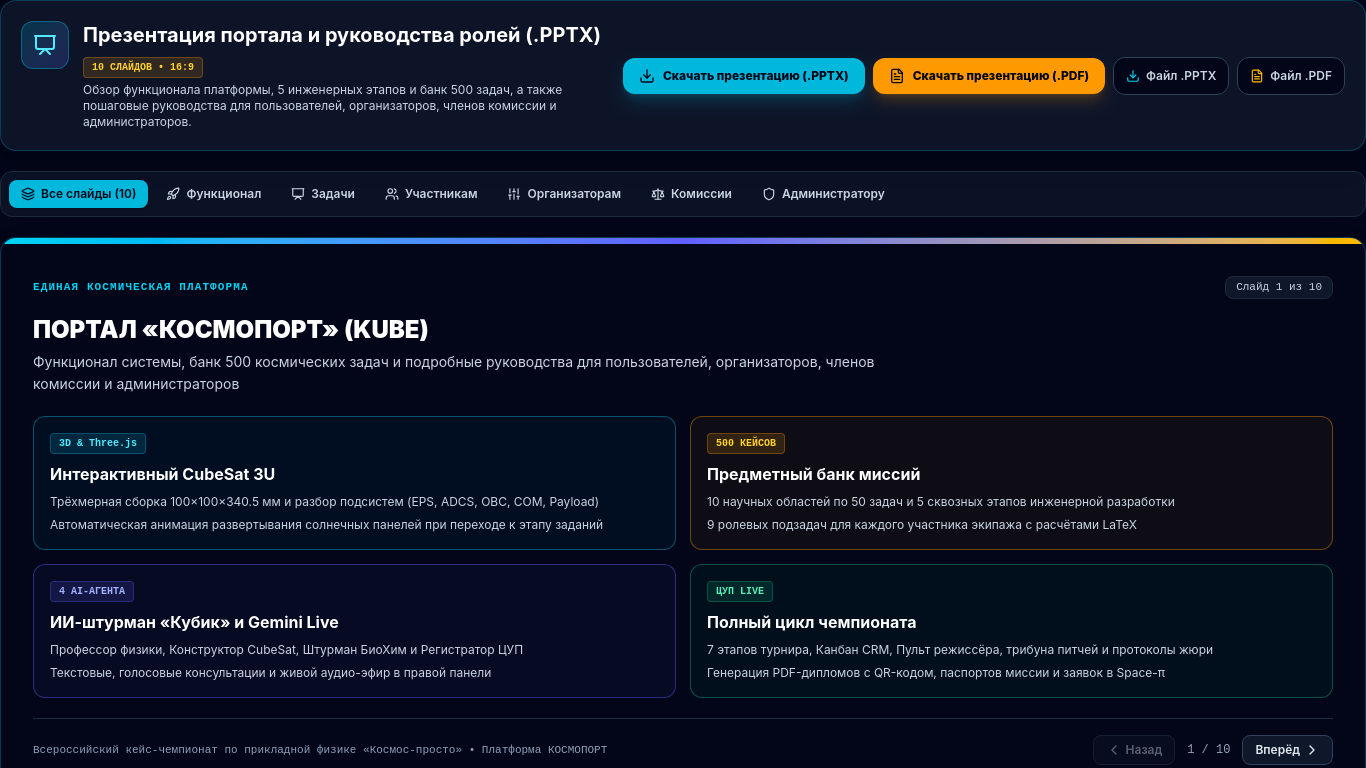
it: PortalPresentationTab и экспорт .PPTX / .PDF › отображает слайды, фильтры по ролям и навигацию Вперёд/Назад
Expected: the heading "Презентация портала и руководства ролей (.PPTX)" is shown, [83,21,601,49]
Expected: the text "Слайд 1 из 10" is shown, [1225,276,1333,298]
// Навигация вперёд
What coordinates should you click on to do the following:
click the button "Вперёд"
I would click on:
 (1288, 750)
Its box is [1242,735,1333,765].
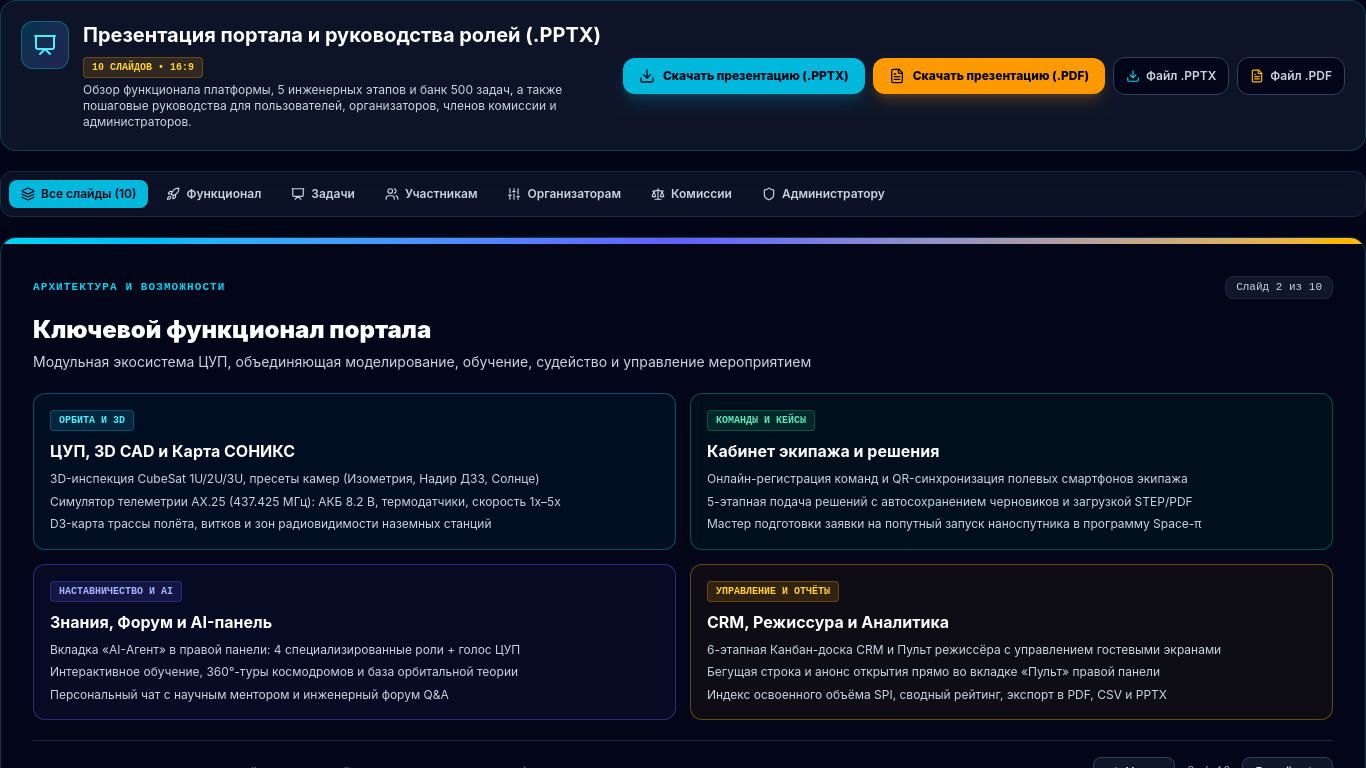
Result: the text "Слайд 2 из 10" is shown at [1225,276,1333,298]
// Фильтр руководства для членов комиссии
What coordinates should you click on to do the following:
click the button "Комиссии"
I would click on:
 (692, 194)
Its box is [639,180,744,208].
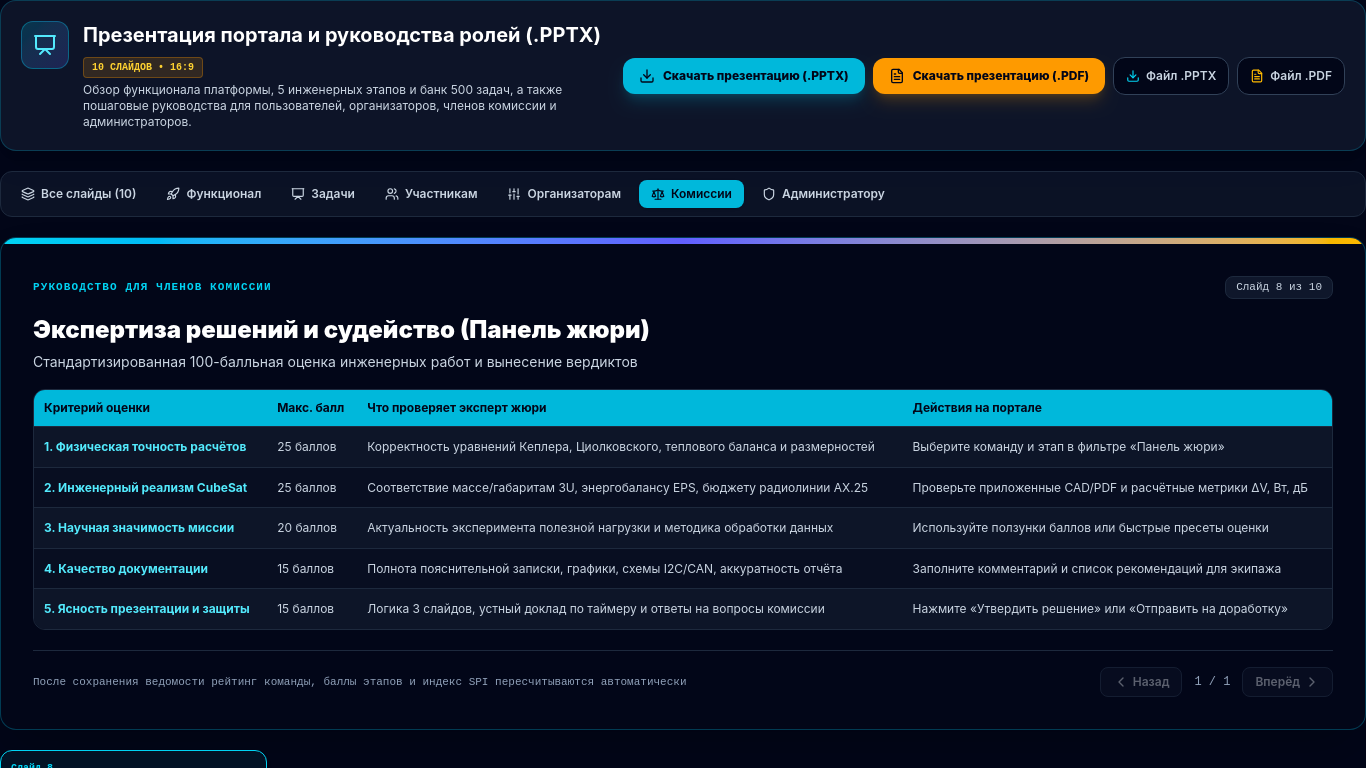
Result: the text "РУКОВОДСТВО ДЛЯ ЧЛЕНОВ КОМИССИИ" is shown at [33,279,272,296]
Result: the heading "Экспертиза решений и судейство (Панель жюри)" is shown at [33,314,650,344]
// Фильтр руководства для администраторов
What coordinates should you click on to do the following:
click the button "Администратору"
I would click on:
 (823, 194)
Its box is [750,180,897,208].
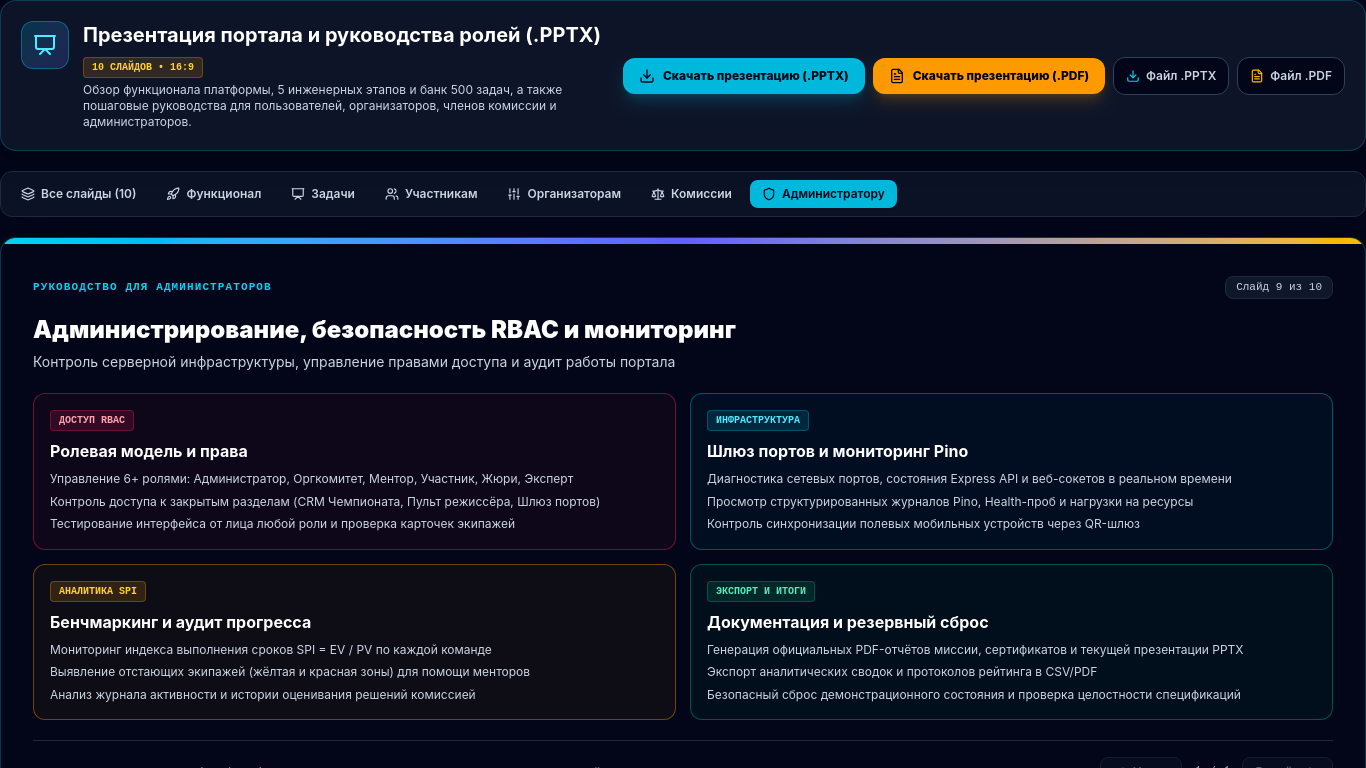
Result: the text "РУКОВОДСТВО ДЛЯ АДМИНИСТРАТОРОВ" is shown at [33,279,272,296]
Result: the heading "Администрирование, безопасность RBAC и мониторинг" is shown at [33,314,736,344]
